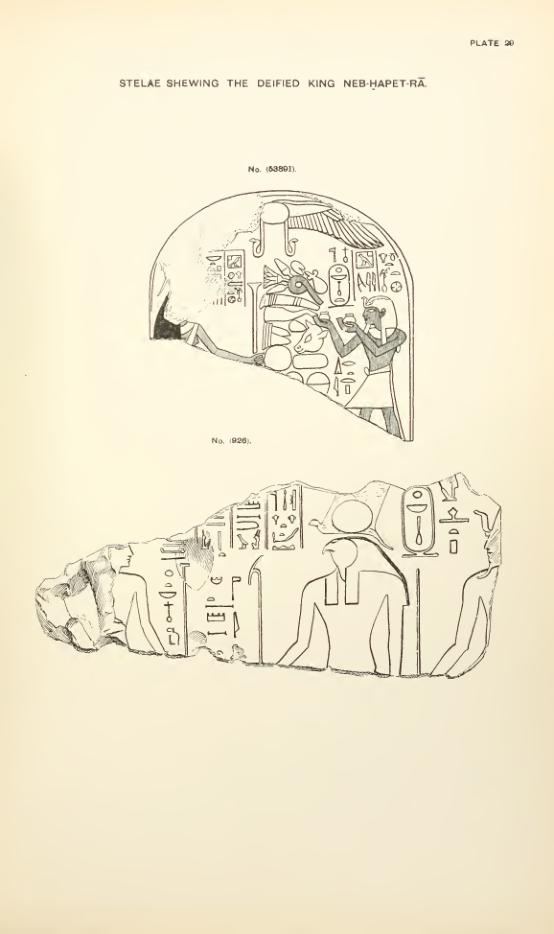circle: (399, 484, 440, 562), (327, 263, 353, 310)
